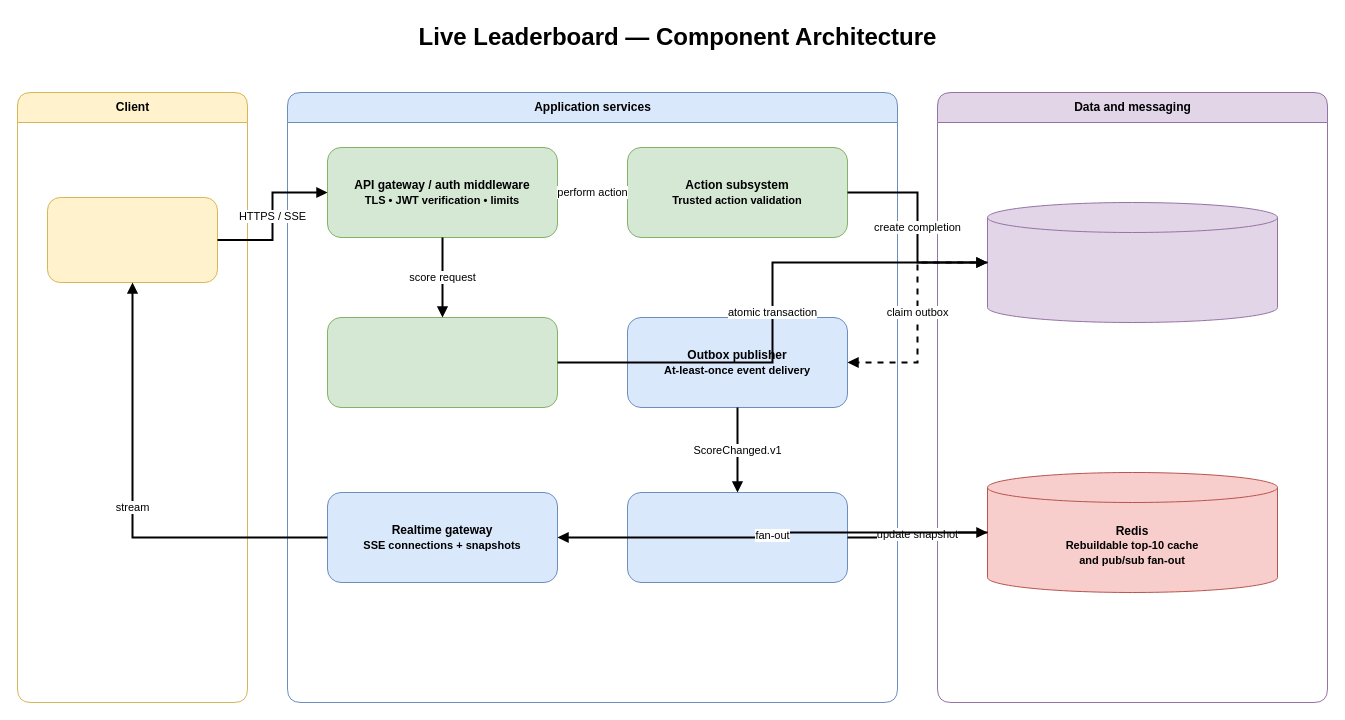
Image size: 1345x720. Some labels were removed from this diagram. Each missing label, with the box of its shape:
Leaderboard projector Top-10 projection + versioning: (626, 492, 848, 582)
PostgreSQL Completions • ledger • totals • outbox Source of truth: (986, 202, 1278, 322)
Score service Transactional award + idempotency: (326, 316, 558, 408)
Website / browser Action UI + top-10 scoreboard: (46, 196, 218, 282)
